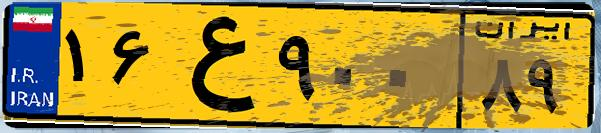0: (385, 28, 445, 110), (330, 28, 385, 110)
1: (57, 26, 110, 100)
6: (110, 28, 158, 98)
8: (475, 38, 525, 113)
9: (270, 28, 330, 110), (525, 38, 570, 115)
ع: (158, 12, 270, 120)
